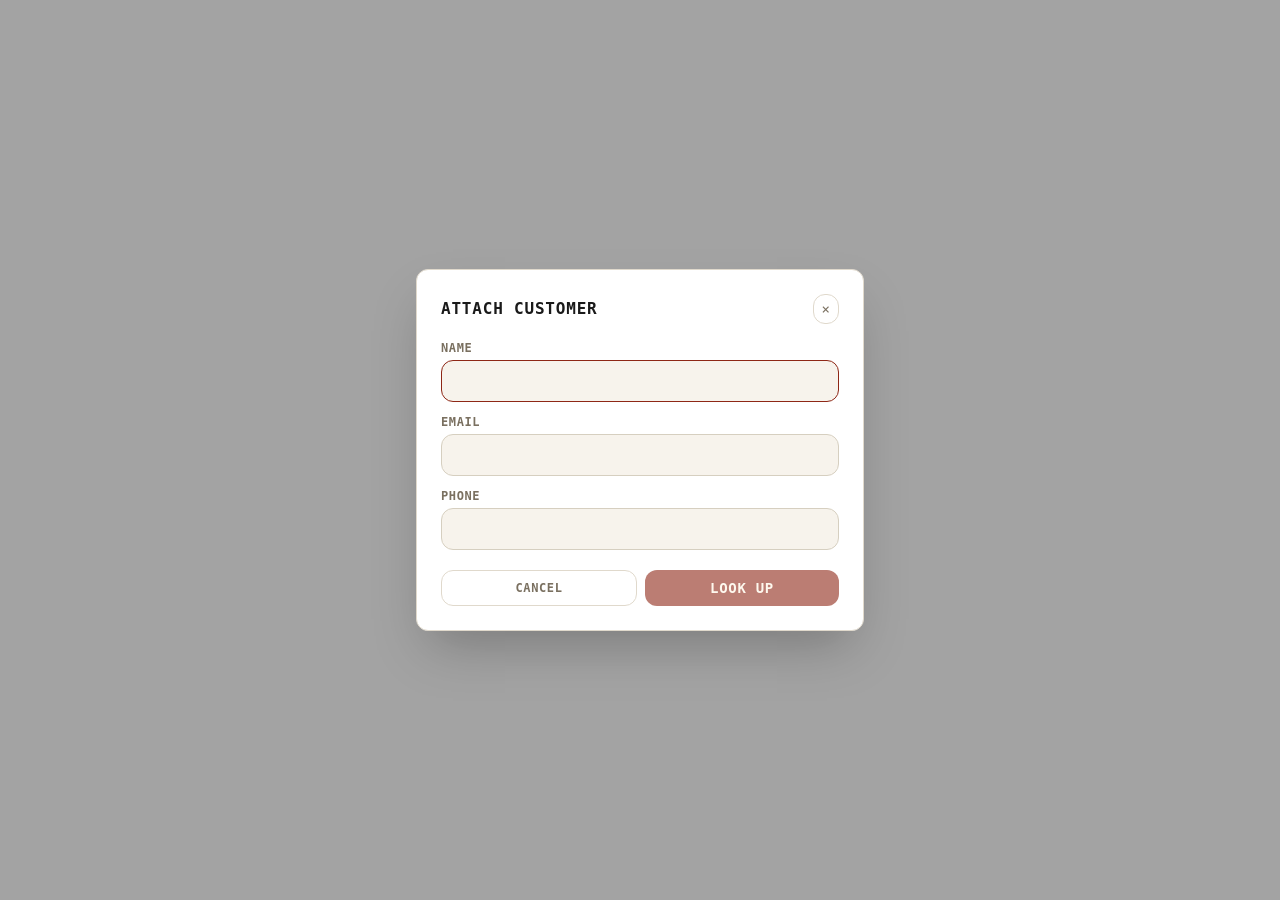
Test case: <AttachCustomerModal> › renders the registered match panel and 'Attach Existing Customer' button on a hit
Type "pat@x.com" into the field named "customer email" at [640, 455], box [441,434,839,476]
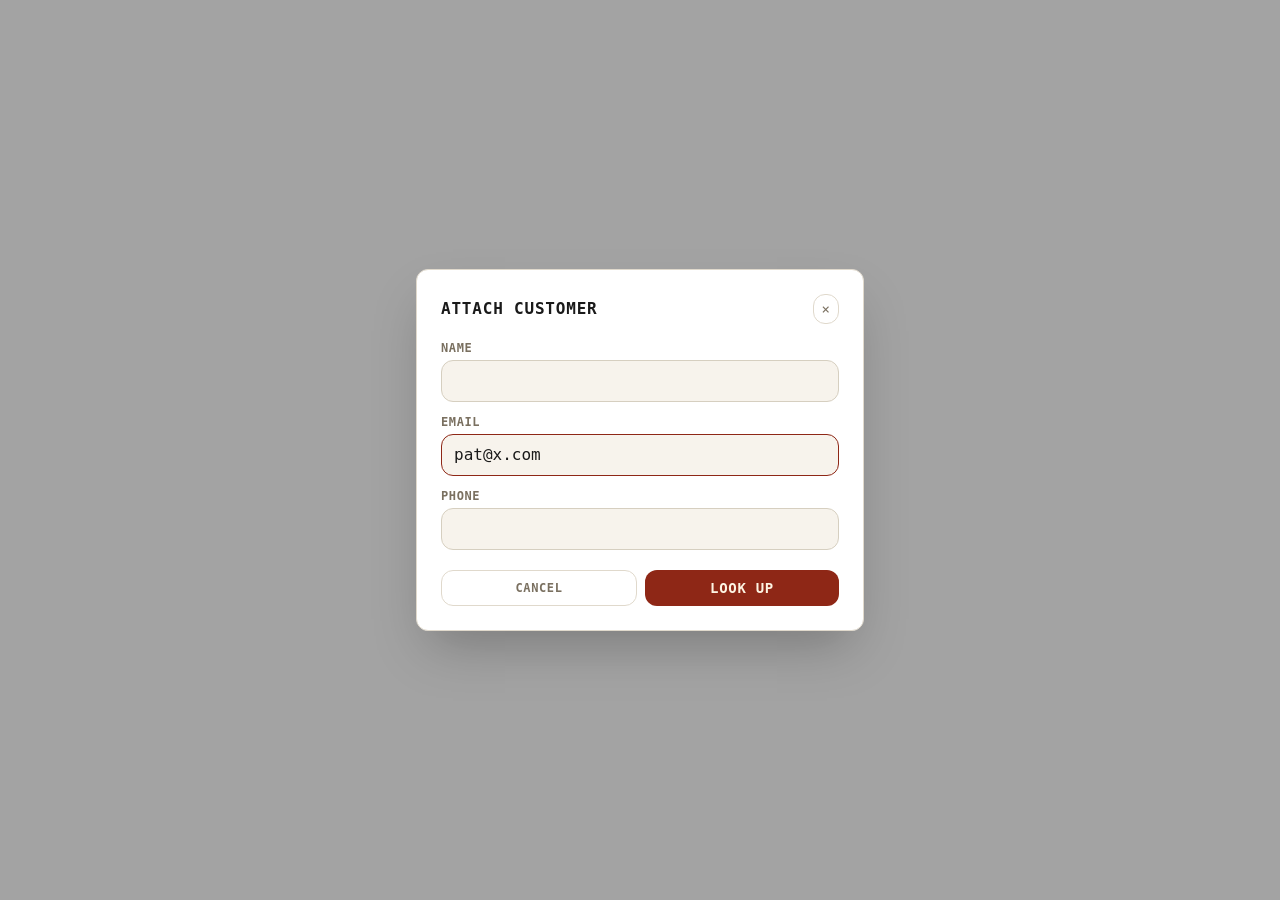
Click the button "Look up" at [742, 588], box [645,570,839,606]
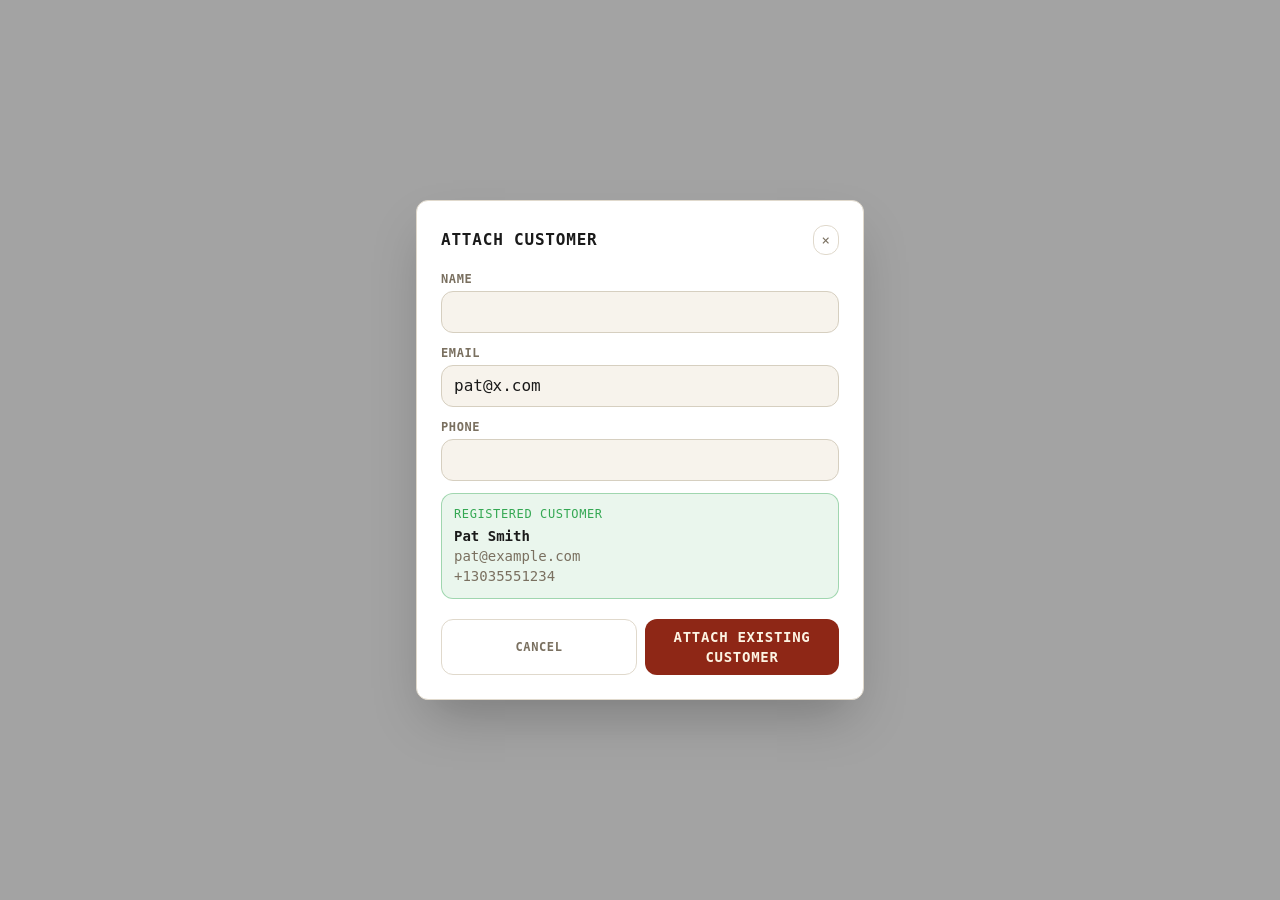
Result: the button "Attach Existing Customer" is enabled at [645,619,839,675]
Result: the element with test id "customer-match" shows "Registered customer" at [454,507,603,521]
